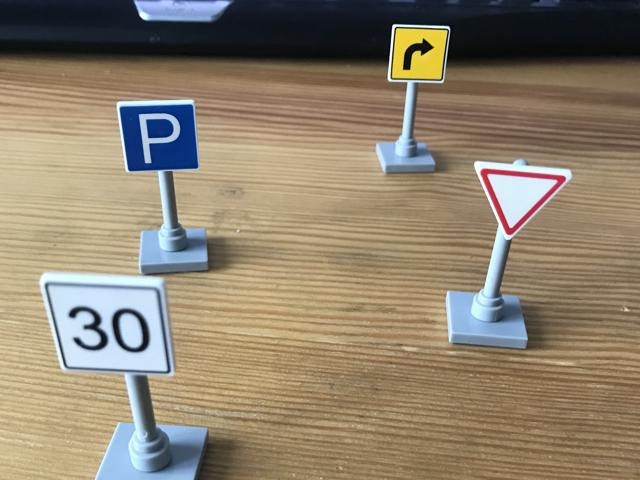fahrtrichtung rechts: (387, 22, 451, 82)
parken: (117, 98, 202, 174)
tempolimit 30: (38, 272, 177, 379)
vorfahrt gewähren: (473, 160, 573, 239)
